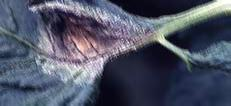Tomato leaf late blight: (0, 0, 157, 106)
